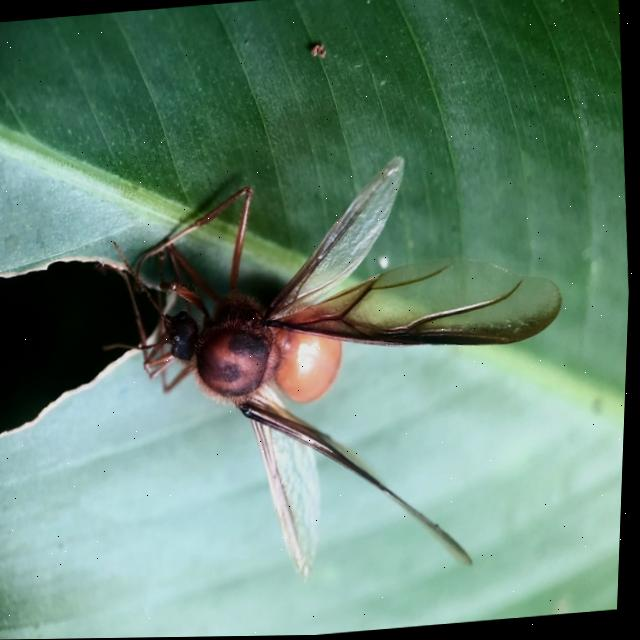Alive-Male-Alate: (84, 144, 587, 601)
